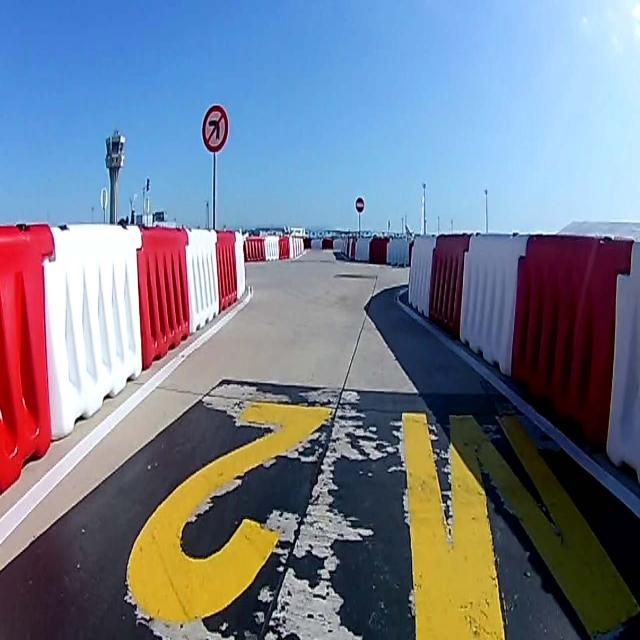girisyok: (355, 195, 365, 213)
soladonulmez: (202, 105, 230, 154)
